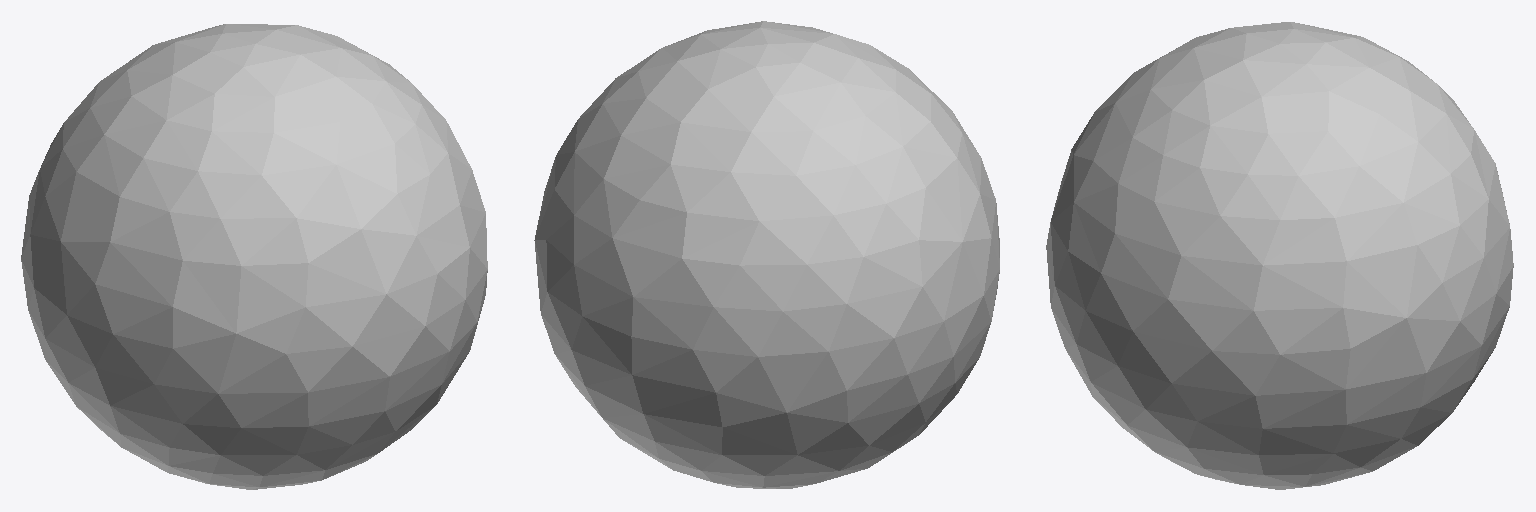
File: sphere_lowpoly.obj
The picture shows the model from 3 angles: view 1: azimuth 30°, elevation 25°; view 2: azimuth 150°, elevation 25°; view 3: azimuth 270°, elevation 25°; orthographic projection.
Visible parts, largest first — view 1: node_Sphere; view 2: node_Sphere; view 3: node_Sphere.
Part boxes in pixels (x1,y1,x2,y2): node_Sphere: (21,24,487,489); node_Sphere: (534,21,999,488); node_Sphere: (1046,22,1513,489).
Size of the model in its own units: 0.9988 by 1 by 0.9989.